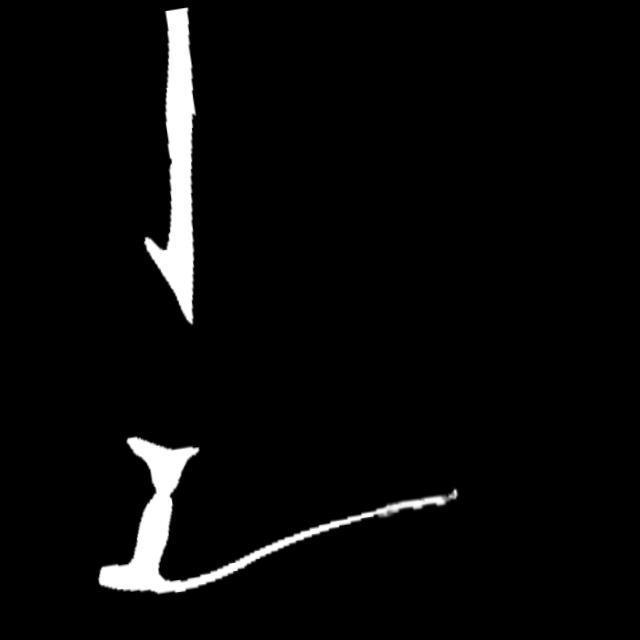stp: (433, 489, 462, 516)
